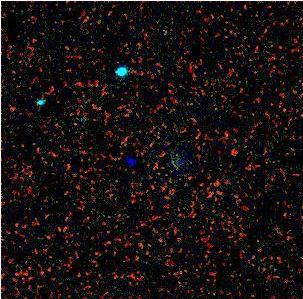star: (115, 146, 145, 176)
